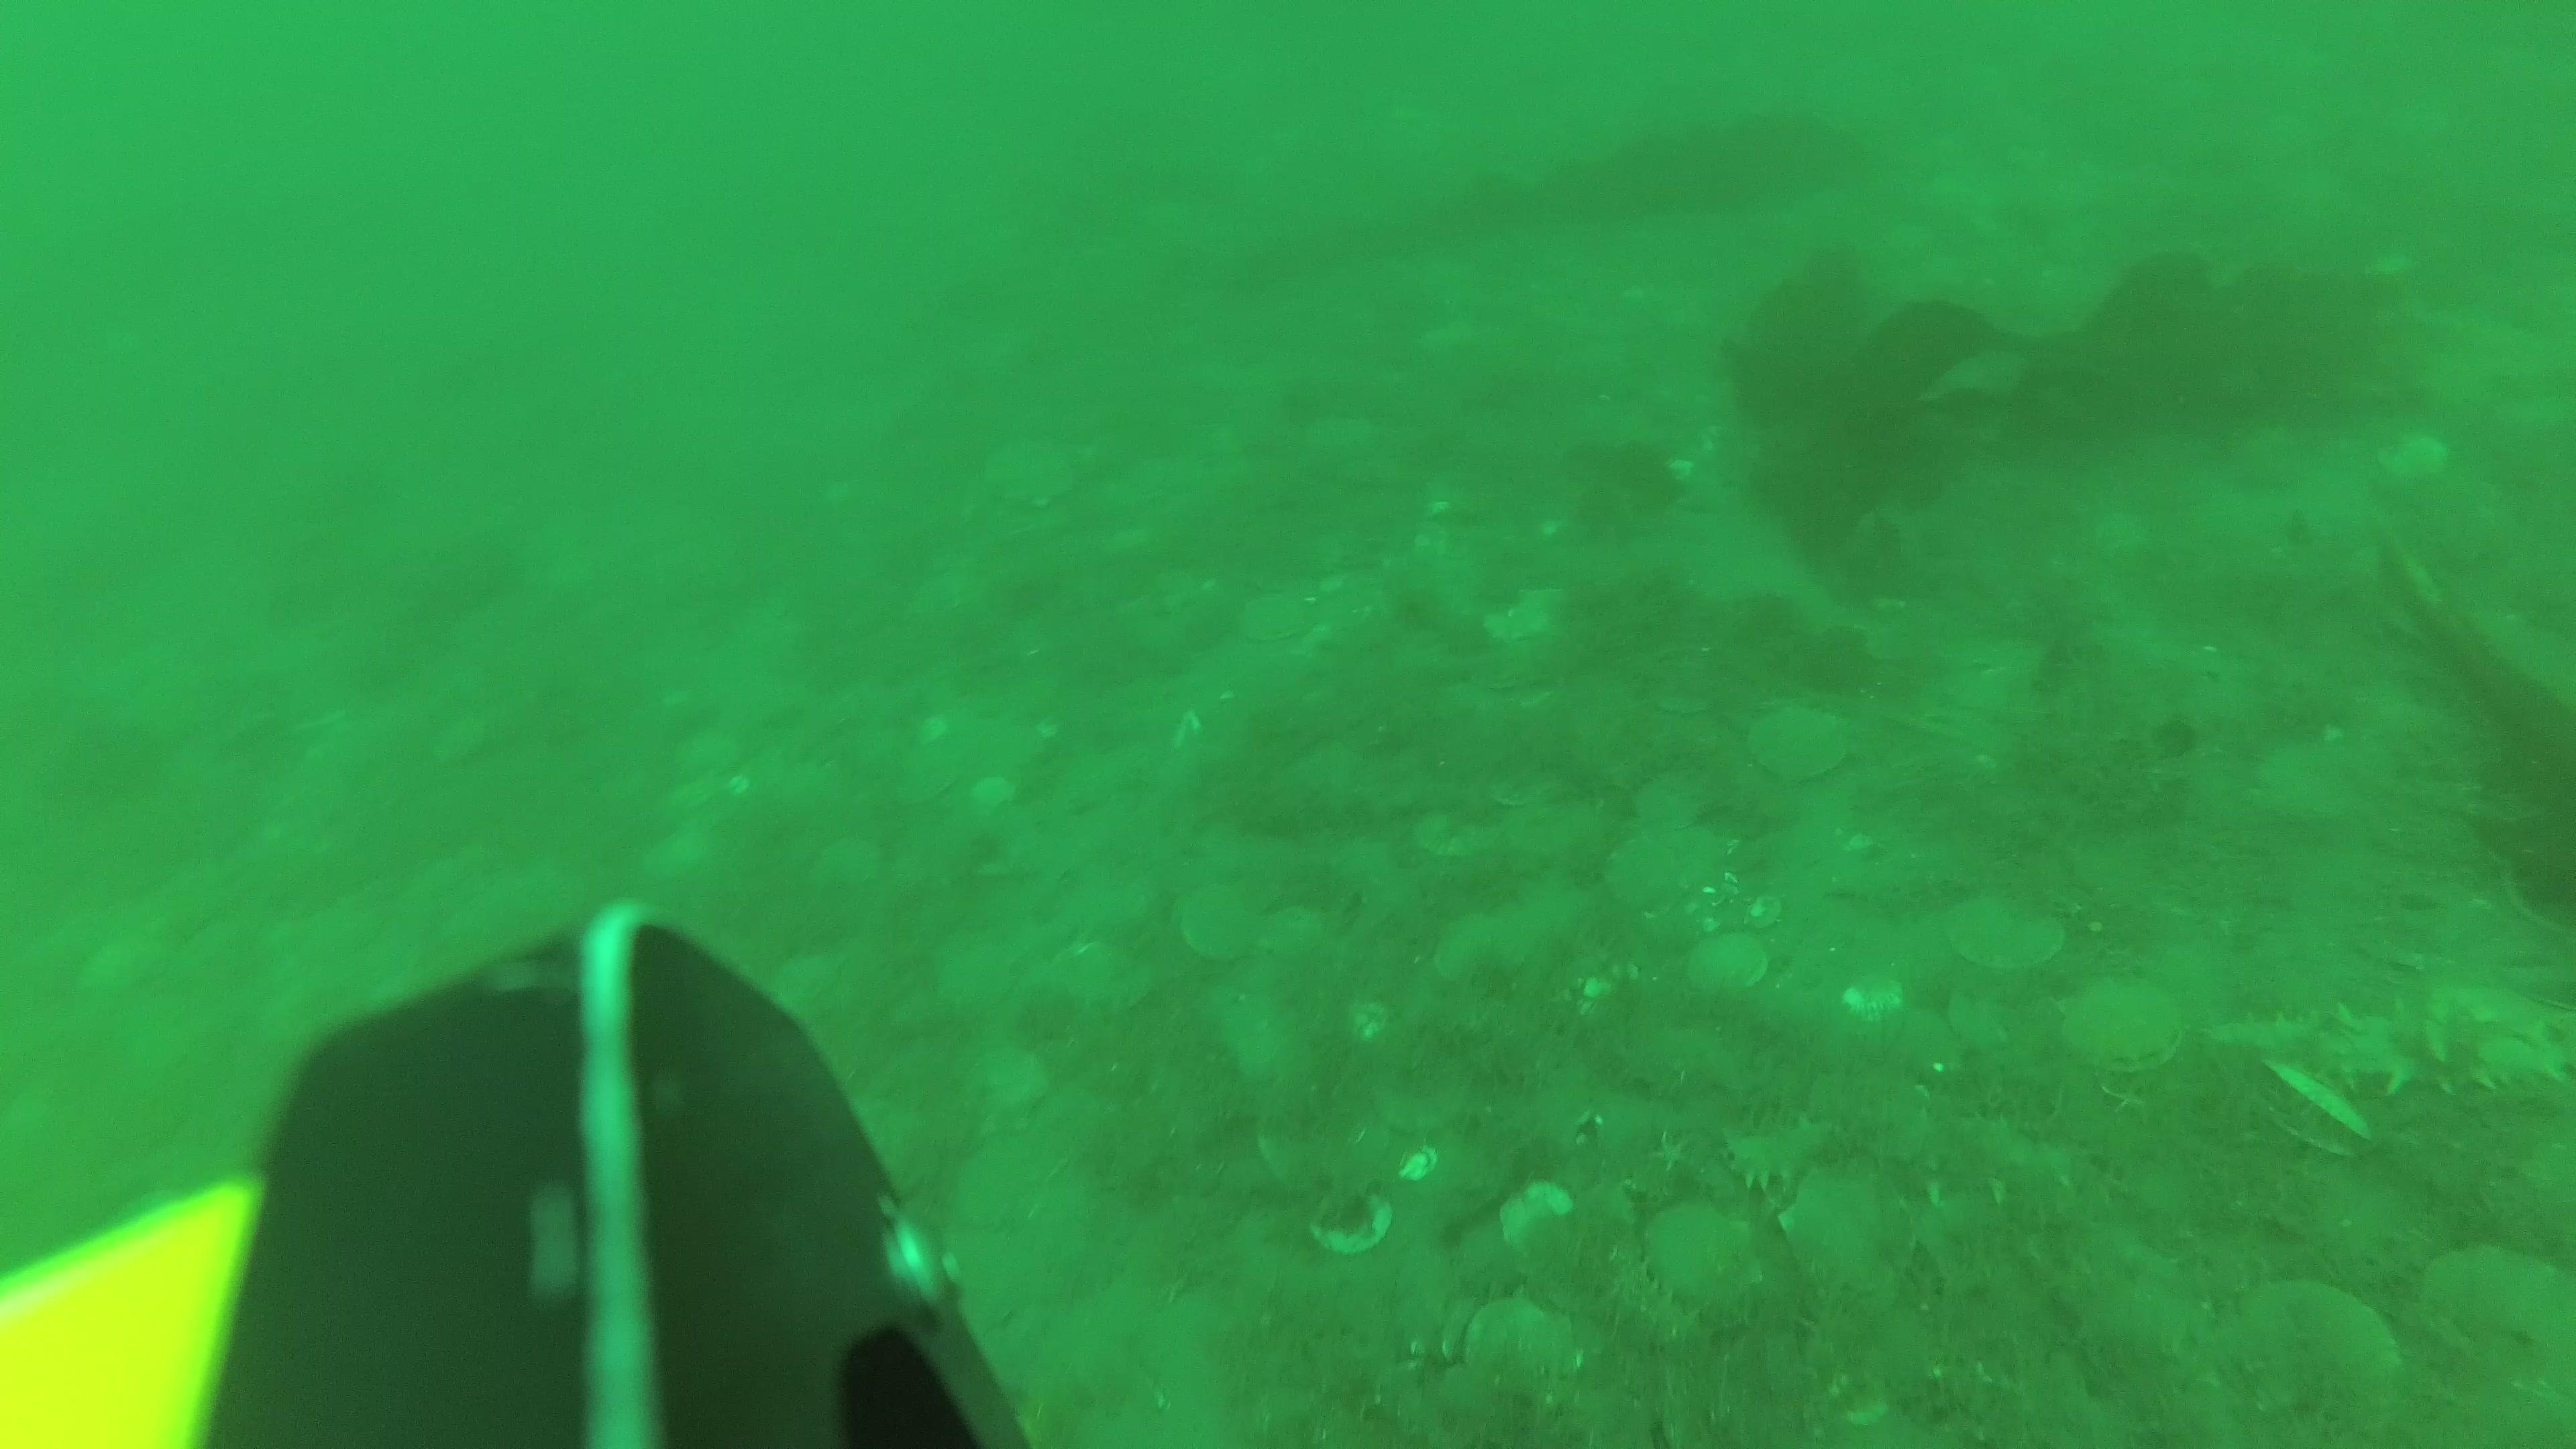holothurian: (2236, 1000, 2576, 1111), (1861, 1111, 2075, 1215), (1720, 1111, 1845, 1198), (1608, 1258, 1709, 1350)
scallop: (2222, 1283, 2401, 1431), (2417, 1230, 2576, 1387), (1783, 1155, 1893, 1286), (2259, 1058, 2374, 1164), (1468, 1290, 1578, 1399), (2059, 982, 2187, 1076), (1642, 1198, 1759, 1297), (1605, 816, 1732, 904), (1743, 701, 1861, 794), (1951, 886, 2063, 970), (1175, 879, 1267, 968), (1493, 1177, 1571, 1253), (1691, 936, 1771, 998), (1844, 966, 1909, 1017)
